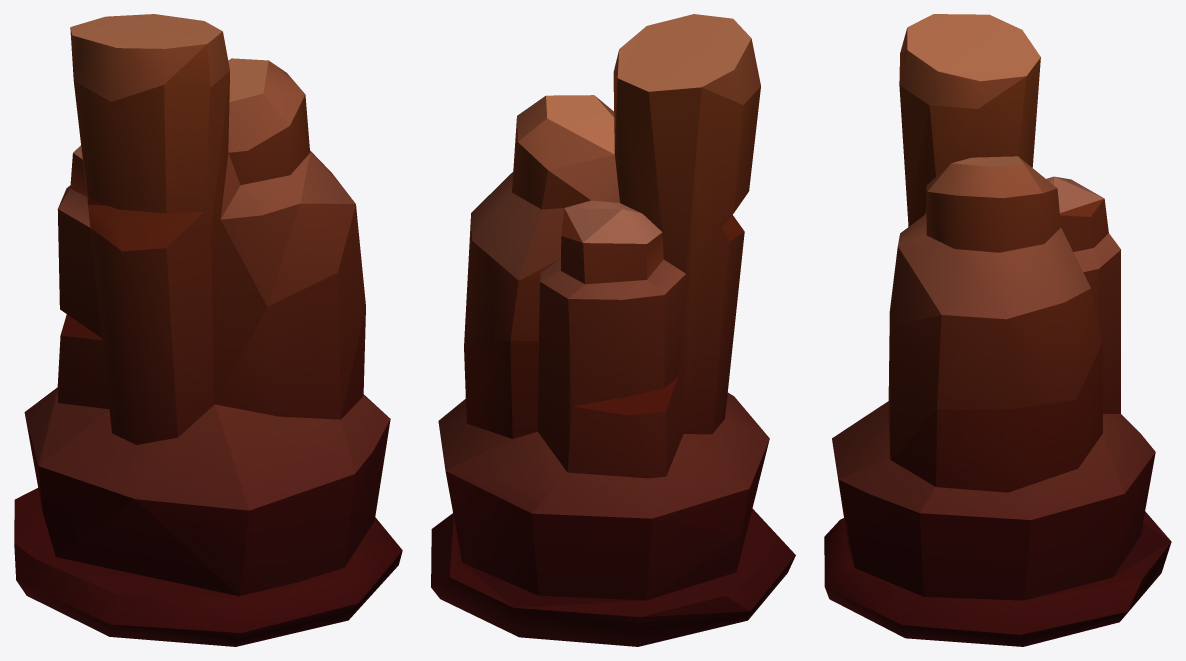
The model's file is cliff1.fbx.
The picture shows the model from 3 angles, left to right: view 1: azimuth 30°, elevation 25°; view 2: azimuth 150°, elevation 25°; view 3: azimuth 270°, elevation 25°; orthographic projection. The views are drawn at different scales.
Visible parts, largest first — view 1: cliff; view 2: cliff; view 3: cliff.
Part boxes in pixels (x1,y1,x2,y2): cliff: (14,14,402,646); cliff: (431,14,795,646); cliff: (824,14,1171,646).
Size of the model in its own units: 8.22 by 13.27 by 8.16.
